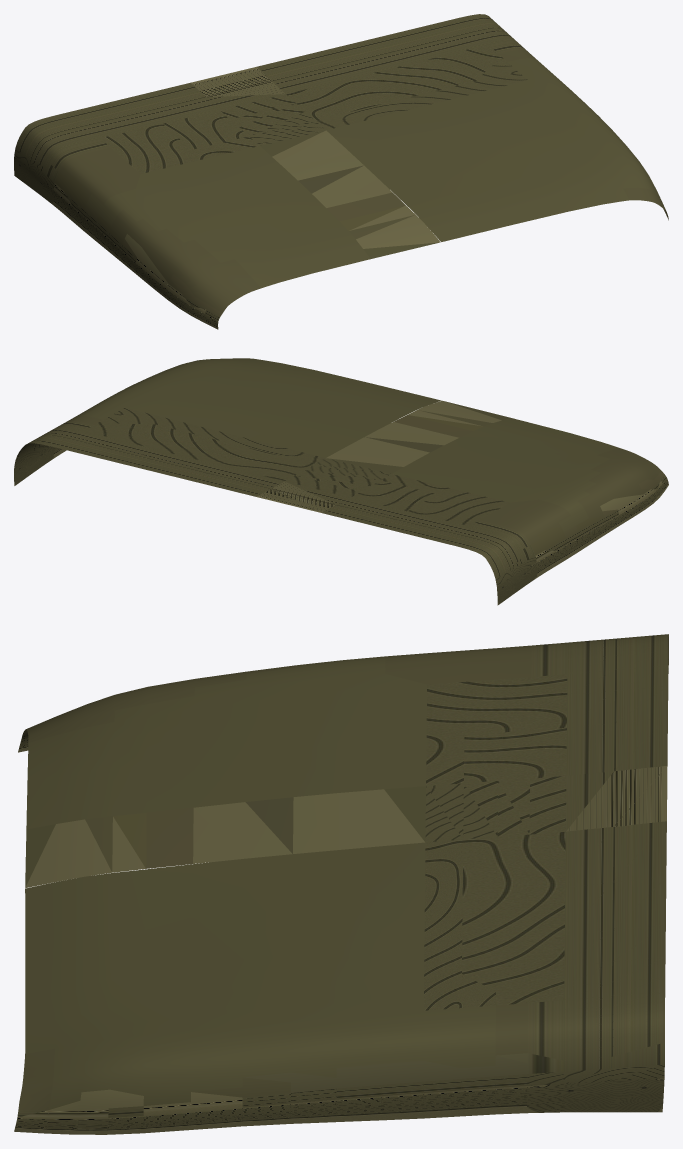
The model's file is jeep_cofre.obj.
3 renders of one model, top to bottom at view 1: azimuth 30°, elevation 25°; view 2: azimuth 150°, elevation 25°; view 3: azimuth 270°, elevation 25°, orthographic. The views are drawn at different scales.
Parts seen in each view (by area): view 1: 1.001; view 2: 1.001; view 3: 1.001.
Boxes of the visible parts, x1=… form: 1.001: x1=14, y1=14, x2=668, y2=329; 1.001: x1=14, y1=358, x2=668, y2=605; 1.001: x1=14, y1=634, x2=668, y2=1134.
Bounding box in the file's own units: 106 × 14.73 × 71.74.
